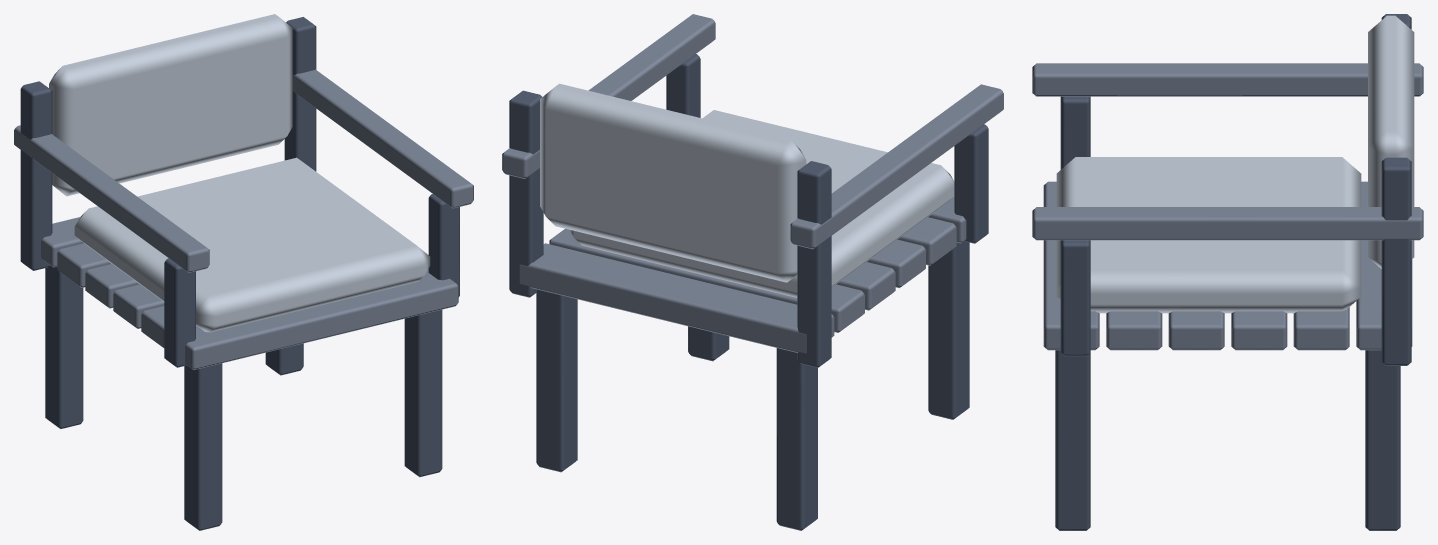
Rendered from 户外扶手椅-lite.glb.
3 views of the same model, side by side, from view 1: azimuth 30°, elevation 25°; view 2: azimuth 150°, elevation 25°; view 3: azimuth 270°, elevation 25° (orthographic). The views are drawn at different scales.
Visible parts, largest first — view 1: garden-chair; view 2: garden-chair; view 3: garden-chair.
Boxes of the visible parts, x1=… form: garden-chair: x1=14, y1=14, x2=473, y2=530; garden-chair: x1=502, y1=14, x2=1003, y2=530; garden-chair: x1=1032, y1=14, x2=1423, y2=530.
Size of the model in its own units: 0.72 by 0.84 by 0.76.
